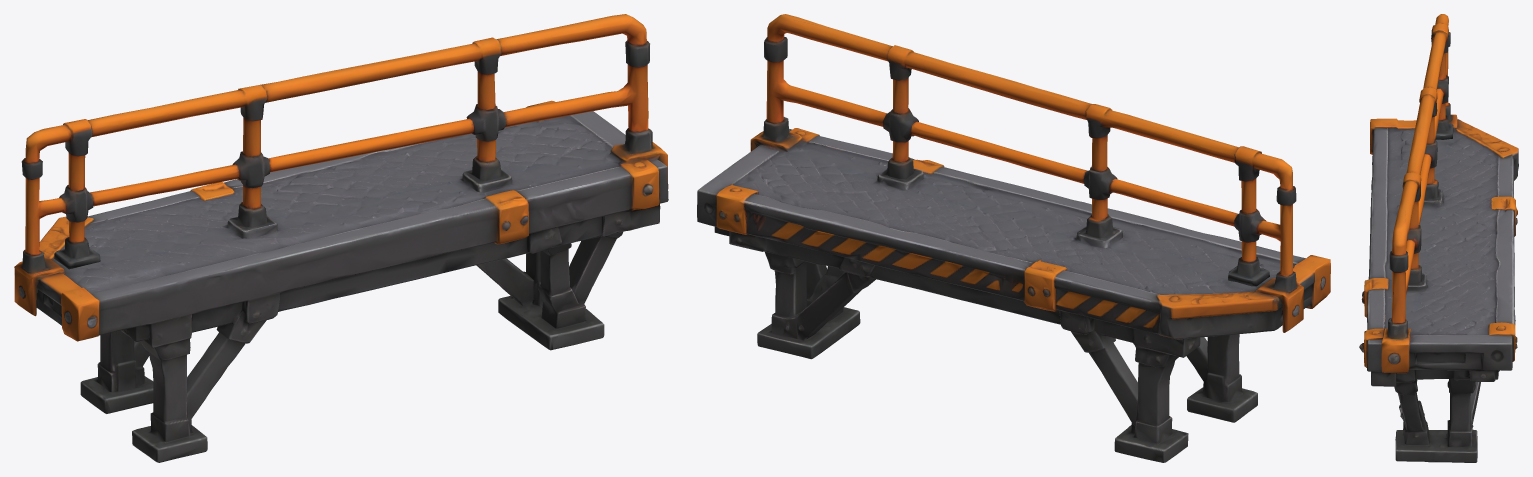
The model's file is IndustrialPropKitPart3.glb.
3 views of the same model, side by side, from view 1: azimuth 30°, elevation 25°; view 2: azimuth 150°, elevation 25°; view 3: azimuth 270°, elevation 25° (orthographic). The views are drawn at different scales.
Parts seen in each view (by area): view 1: Mesh::generatedModels/YY81SemODinijeTL3brG.gltf; view 2: Mesh::generatedModels/YY81SemODinijeTL3brG.gltf; view 3: Mesh::generatedModels/YY81SemODinijeTL3brG.gltf.
Boxes of the visible parts, x1=… form: Mesh::generatedModels/YY81SemODinijeTL3brG.gltf: x1=14, y1=14, x2=668, y2=462; Mesh::generatedModels/YY81SemODinijeTL3brG.gltf: x1=697, y1=14, x2=1330, y2=462; Mesh::generatedModels/YY81SemODinijeTL3brG.gltf: x1=1359, y1=14, x2=1518, y2=462.
Bounding box in the file's own units: 1 × 0.4971 × 0.292.
1 material, 1 textured.
